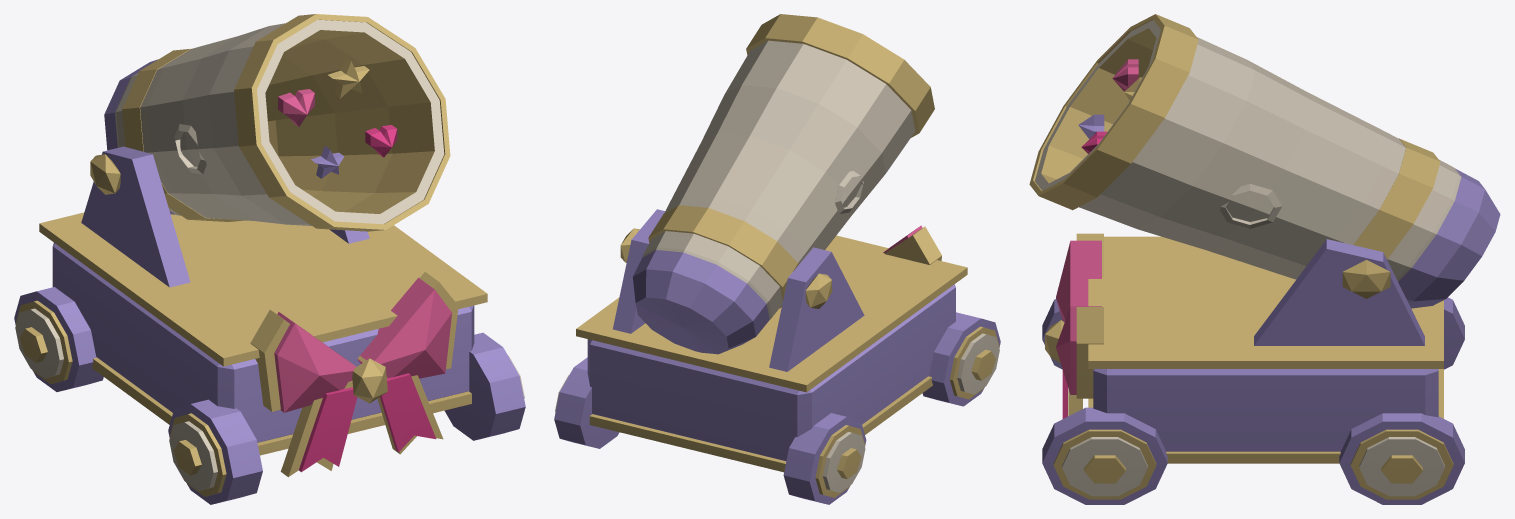
Rendered from cannon.glb.
The picture shows the model from 3 angles, left to right: view 1: azimuth 30°, elevation 25°; view 2: azimuth 150°, elevation 25°; view 3: azimuth 270°, elevation 25°; orthographic projection. The views are drawn at different scales.
Visible parts, largest first — view 1: root_mesh, gate_mesh, pulse_mesh; view 2: root_mesh, gate_mesh; view 3: root_mesh, gate_mesh, pulse_mesh.
Part boxes in pixels (x1=…): root_mesh: x1=14, y1=146, x2=525, y2=504; gate_mesh: x1=104, y1=14, x2=450, y2=231; pulse_mesh: x1=278, y1=57, x2=397, y2=178; root_mesh: x1=554, y1=209, x2=1000, y2=504; gate_mesh: x1=633, y1=14, x2=934, y2=354; root_mesh: x1=1042, y1=233, x2=1464, y2=504; gate_mesh: x1=1029, y1=14, x2=1500, y2=308; pulse_mesh: x1=1078, y1=59, x2=1142, y2=153.
Bounding box in the file's own units: 2 × 2.5 × 2.6.
